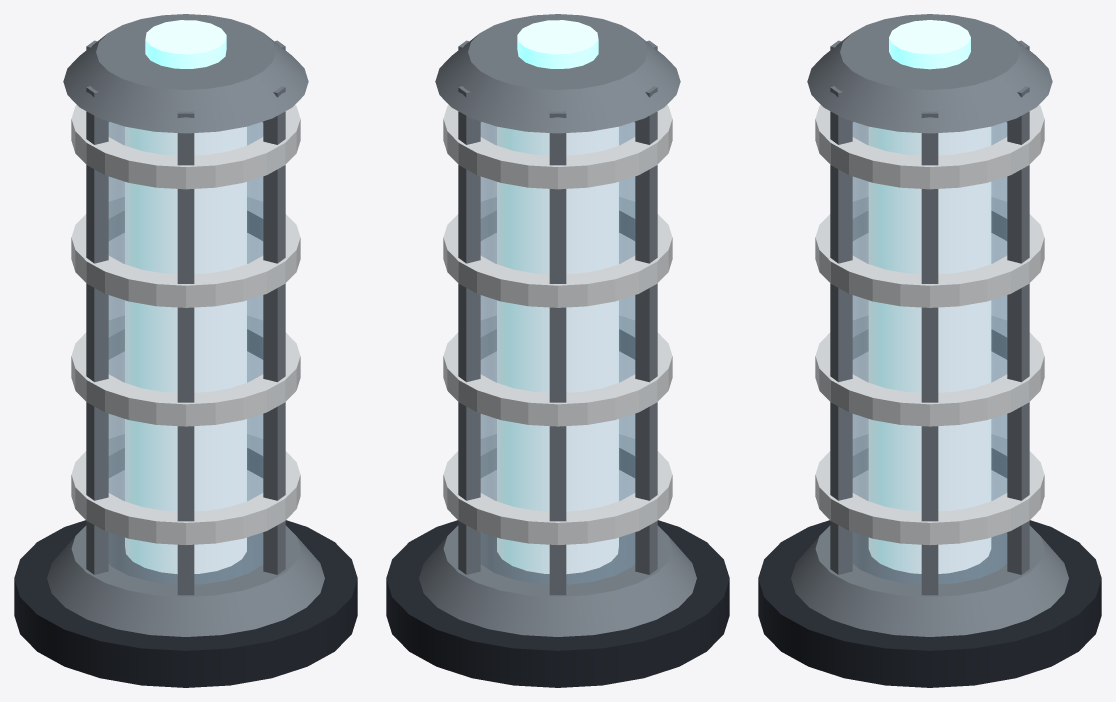
File: os_reactor_core.glb
The picture shows the model from 3 angles, left to right: view 1: azimuth 30°, elevation 25°; view 2: azimuth 150°, elevation 25°; view 3: azimuth 270°, elevation 25°; orthographic projection.
Visible parts, largest first — view 1: os_reactor_core; view 2: os_reactor_core; view 3: os_reactor_core.
Part boxes in pixels (left/top/right/bottom): os_reactor_core: left=14, top=14, right=357, bottom=687; os_reactor_core: left=386, top=14, right=729, bottom=687; os_reactor_core: left=758, top=14, right=1101, bottom=687.
Bounding box in the file's own units: 4.2 × 7.8 × 4.2.
